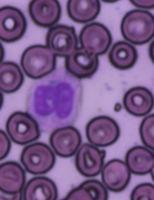N: (25, 68, 82, 132)
